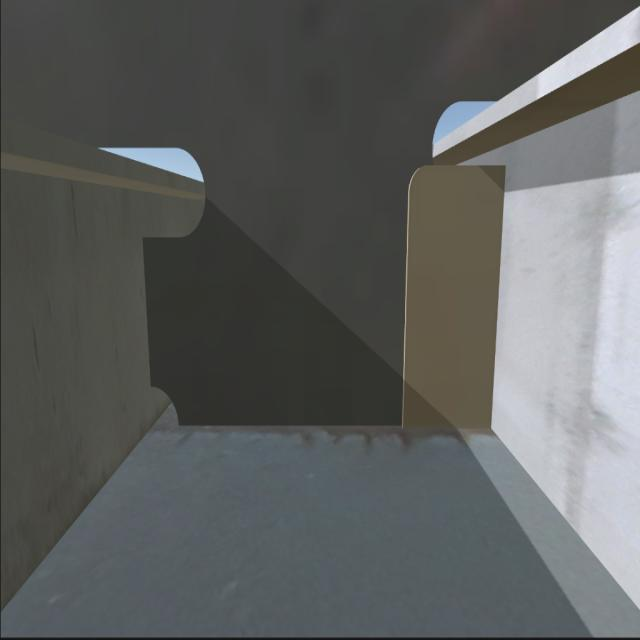fillet_hole: (149, 391, 179, 431)
fillet_yong_jeop_jang: (185, 424, 492, 432)
longi_yong_jeop_jang: (141, 241, 156, 381), (494, 166, 500, 432)
plate_CP05: (402, 166, 499, 428)
